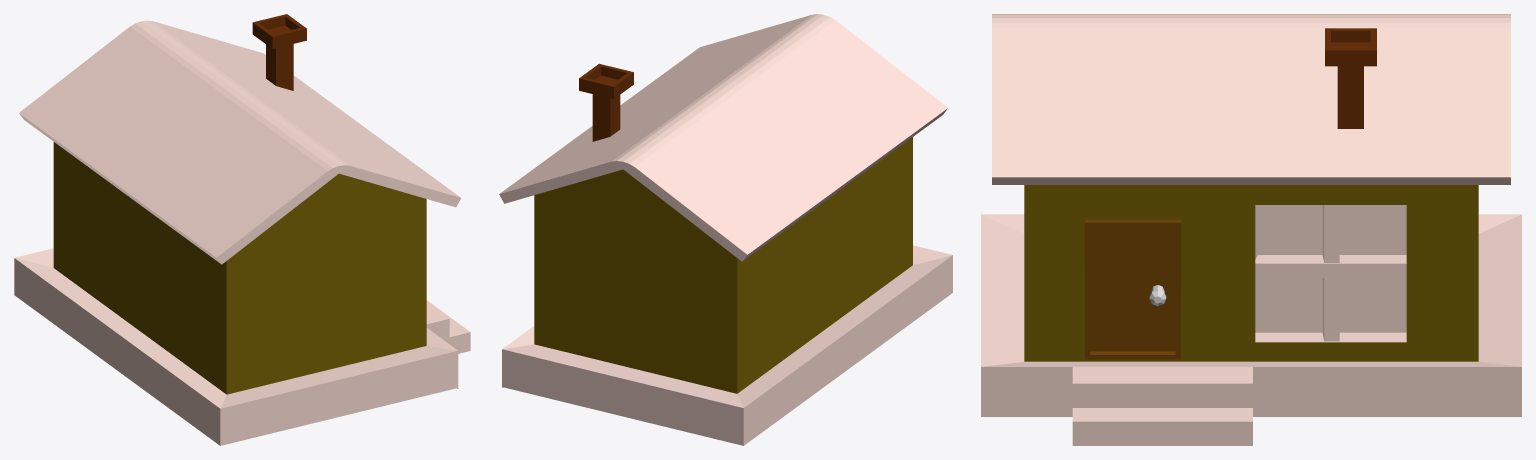
The model's file is casa low poly.fbx.
3 renders of one model, left to right at view 1: azimuth 30°, elevation 25°; view 2: azimuth 150°, elevation 25°; view 3: azimuth 270°, elevation 25°, orthographic. The views are drawn at different scales.
Visible parts, largest first — view 1: Cube, roof, chimney; view 2: Cube, roof, chimney; view 3: Cube, roof, window, door, chimney.
Part boxes in pixels (x1,y1,x2,y2): Cube: [14, 142, 470, 445]; roof: [19, 20, 460, 264]; chimney: [252, 14, 306, 90]; Cube: [502, 137, 952, 445]; roof: [499, 14, 947, 261]; chimney: [579, 63, 633, 141]; Cube: [981, 185, 1521, 445]; roof: [992, 14, 1510, 184]; window: [1255, 205, 1406, 341]; door: [1084, 219, 1181, 359]; chimney: [1325, 28, 1376, 128].
Size of the model in its own units: 571 by 516 by 715.
